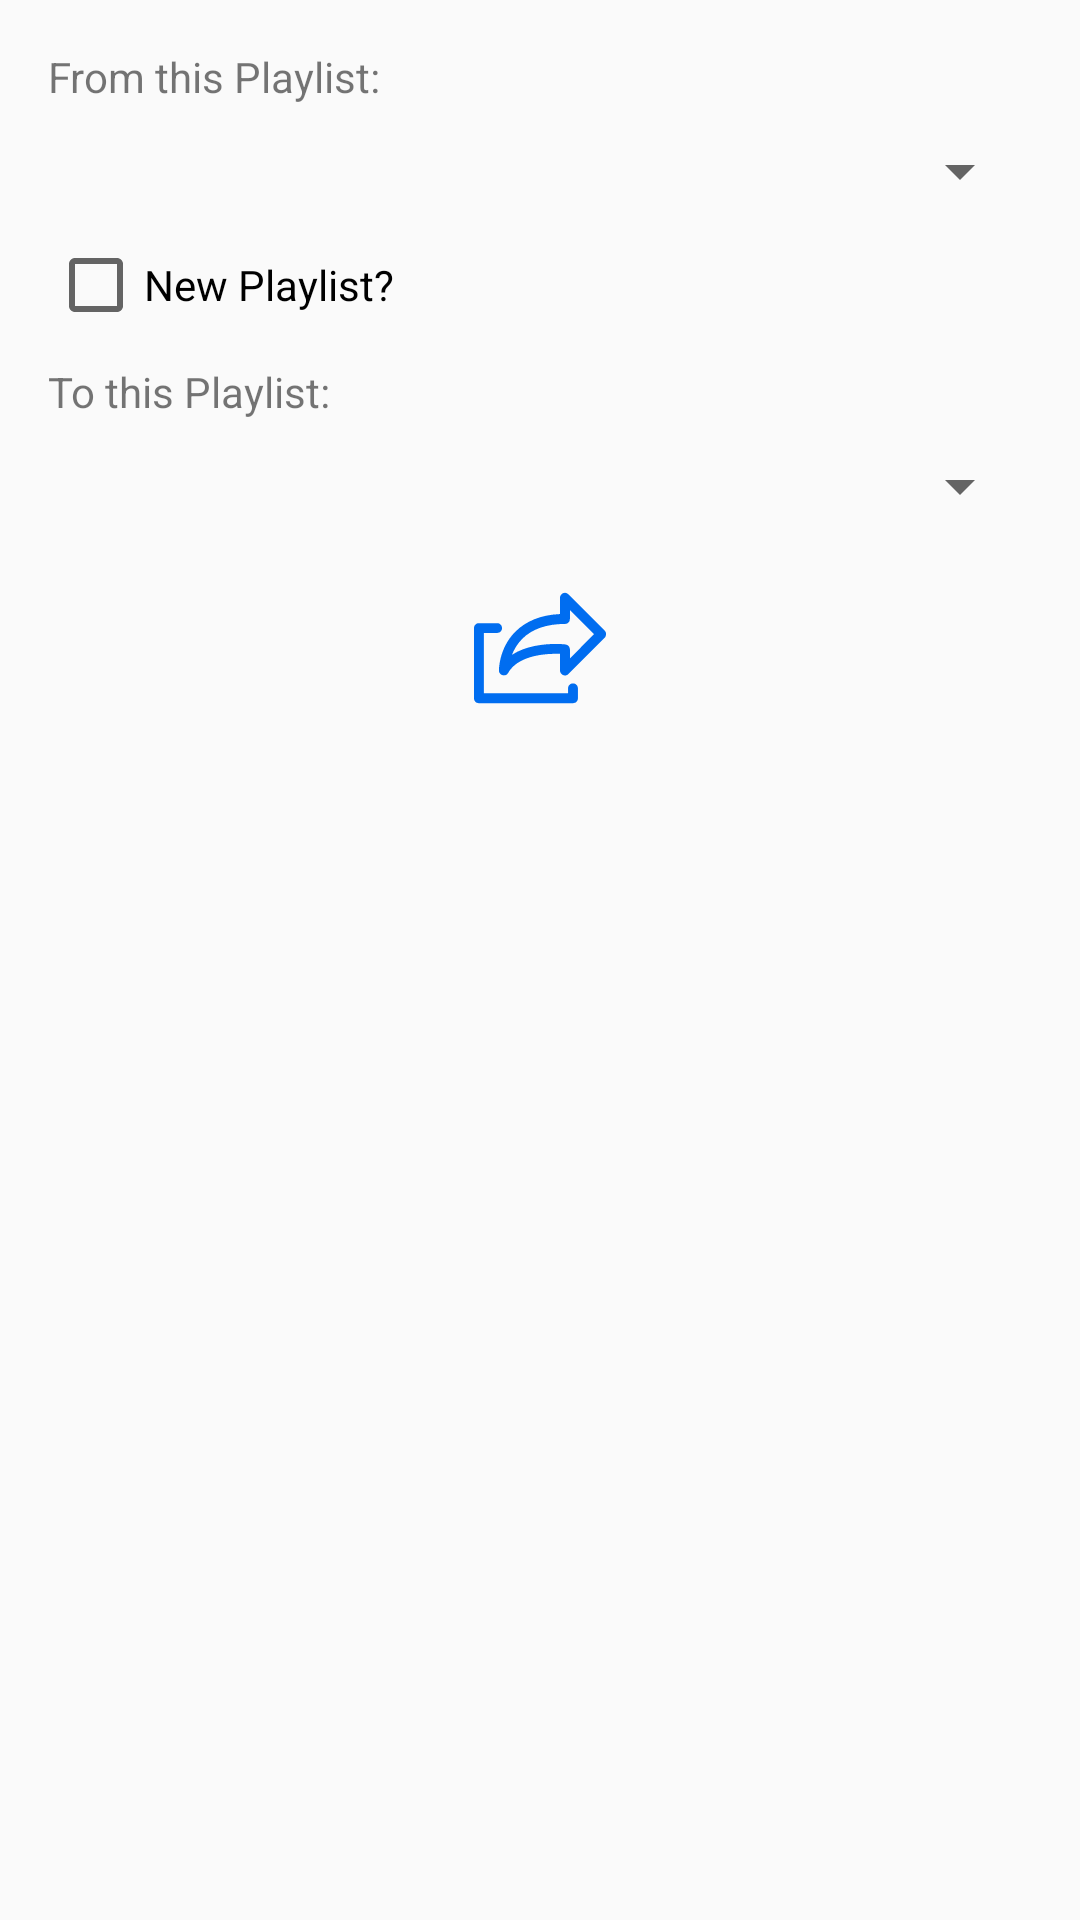

Screen size 1080px x 1920px. Icon name, then its box in pixels as (x1, y1, x2, y2):
export: (474, 592, 606, 704)
